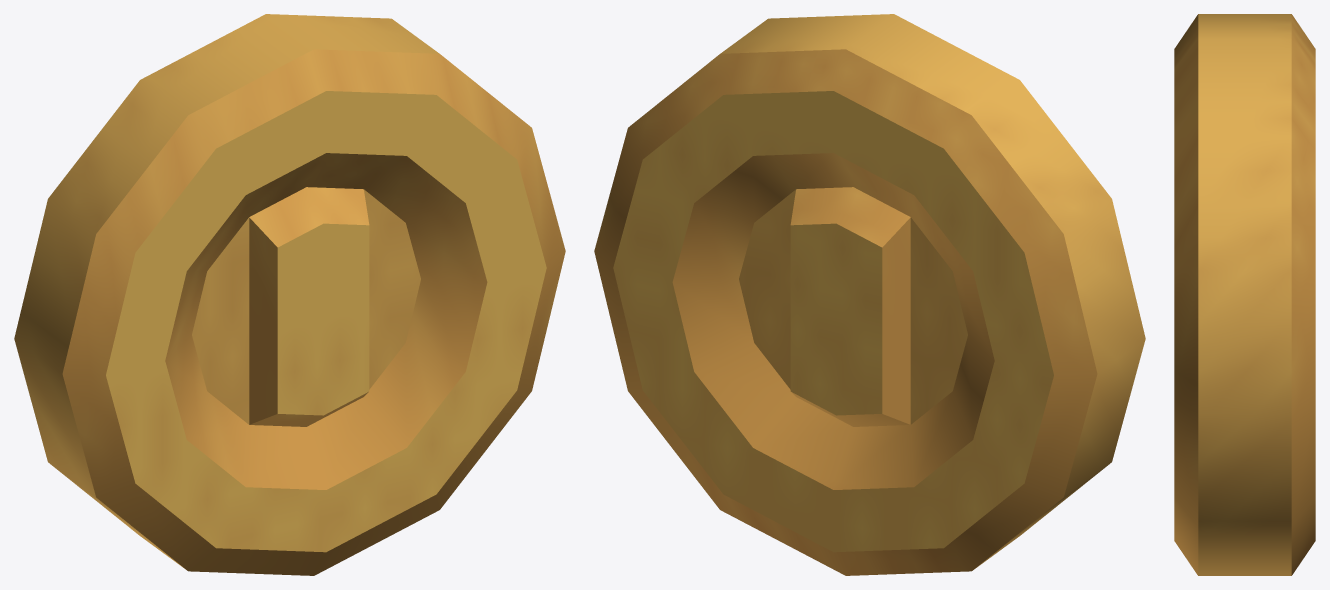
File: Money_Single.gltf
3 views of the same model, side by side, from view 1: azimuth 30°, elevation 25°; view 2: azimuth 150°, elevation 25°; view 3: azimuth 270°, elevation 25° (orthographic). The views are drawn at different scales.
Parts seen in each view (by area): view 1: Money_Single; view 2: Money_Single; view 3: Money_Single.
Part boxes in pixels (x1,y1,x2,y2): Money_Single: (14, 14, 565, 575); Money_Single: (594, 14, 1145, 575); Money_Single: (1174, 14, 1315, 575).
Size of the model in its own units: 0.4 by 0.4 by 0.1.
Materials: 1 (1 with a texture image).
